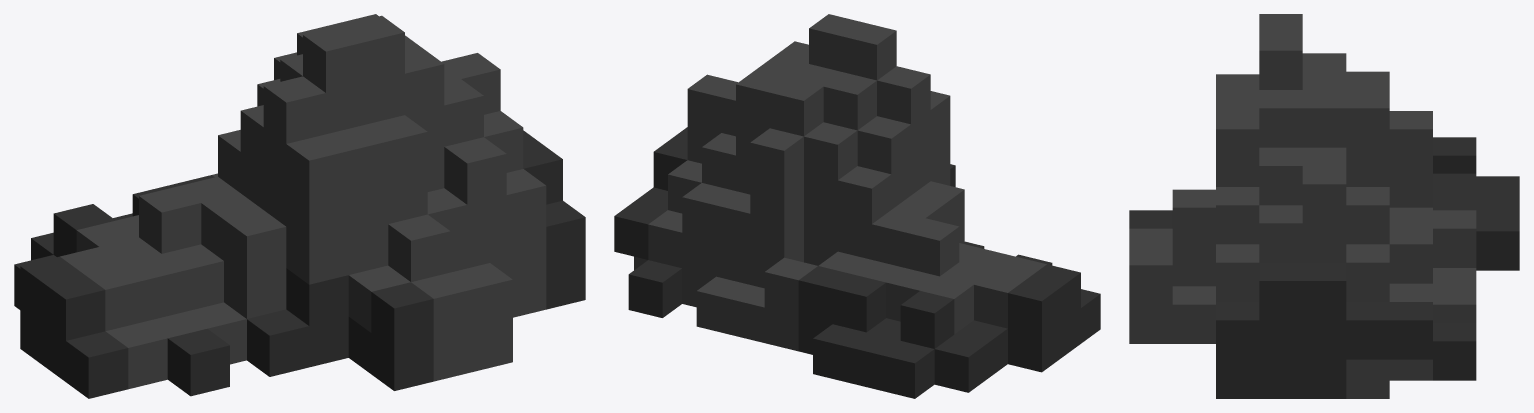
File: chicken-1.obj
3 views of the same model, side by side, from view 1: azimuth 30°, elevation 25°; view 2: azimuth 150°, elevation 25°; view 3: azimuth 270°, elevation 25° (orthographic). The views are drawn at different scales.
Size of the model in its own units: 1.2 by 0.7 by 0.9.
Materials: 1 (1 with a texture image).
